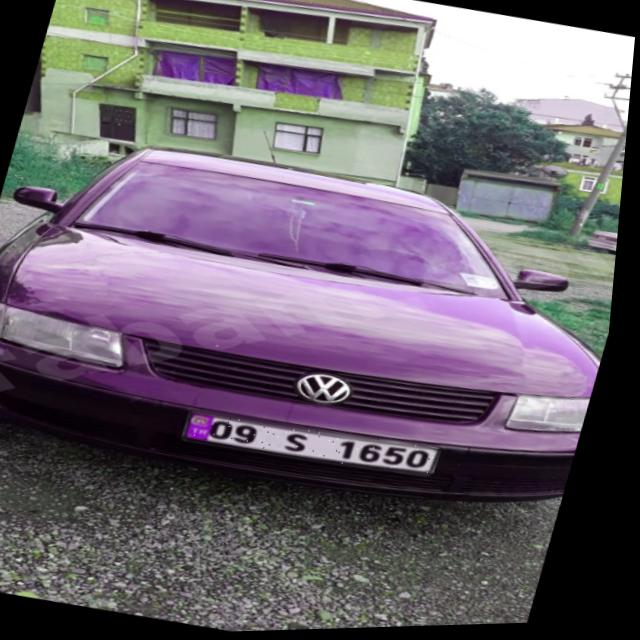license_plate: (186, 403, 453, 488)
